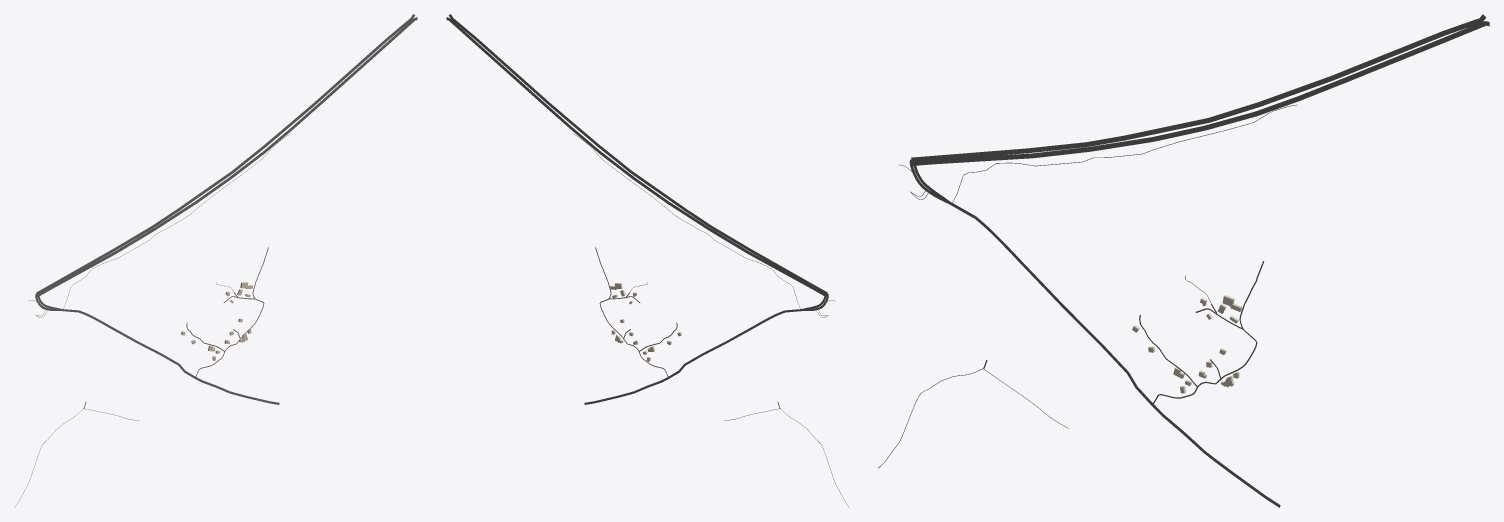
The model's file is historic-palestine-08_27_3498_3217.glb.
3 renders of one model, left to right at view 1: azimuth 30°, elevation 25°; view 2: azimuth 150°, elevation 25°; view 3: azimuth 330°, elevation 25°, orthographic. The views are drawn at different scales.
Visible parts, largest first — view 1: Road 55, Road 55.001, Road 5441.009; view 2: Road 55, Road 55.001, Road 5441.009; view 3: Road 55, Road 55.001, Road 5441.009.
Boxes of the visible parts, <box> form: Road 55: <box>38,17,417,295</box>; Road 55.001: <box>36,14,415,294</box>; Road 5441.009: <box>63,309,279,404</box>; Road 55: <box>446,17,825,295</box>; Road 55.001: <box>448,14,827,294</box>; Road 5441.009: <box>584,309,800,404</box>; Road 55: <box>913,21,1489,165</box>; Road 55.001: <box>911,14,1486,162</box>; Road 5441.009: <box>951,203,1280,507</box>.
Size of the model in its own units: 1646 by 1548 by 8.7.
